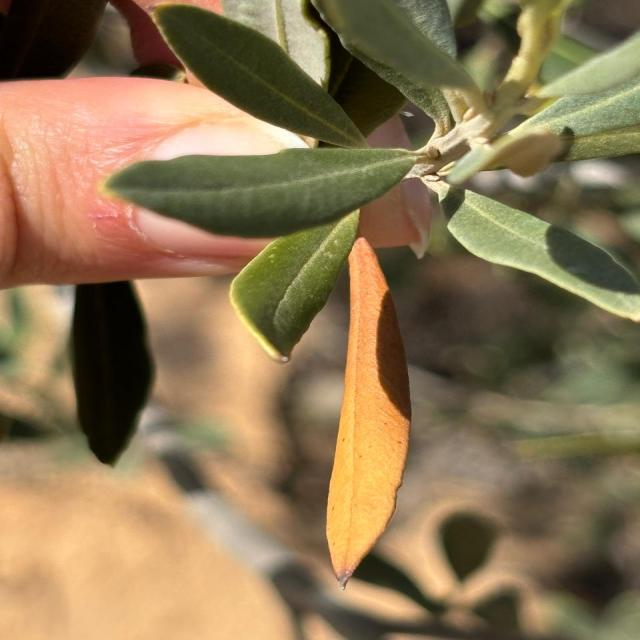Peacock Eye: (326, 238, 411, 588)
